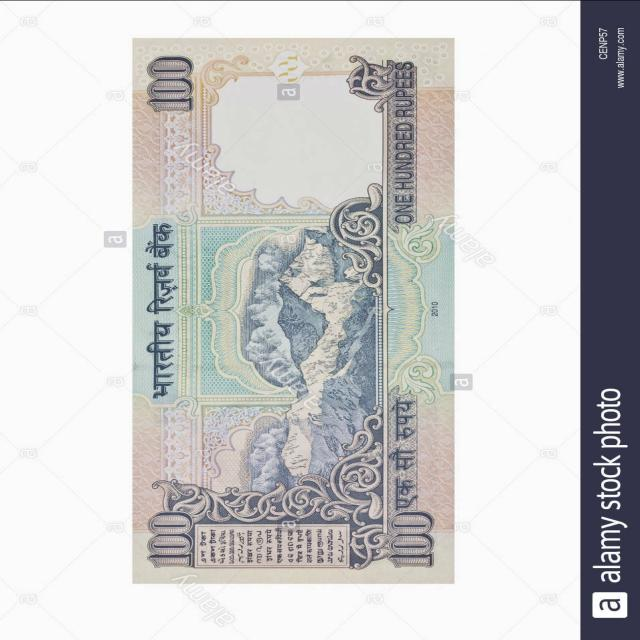100IndianRupees: (129, 40, 446, 586)
